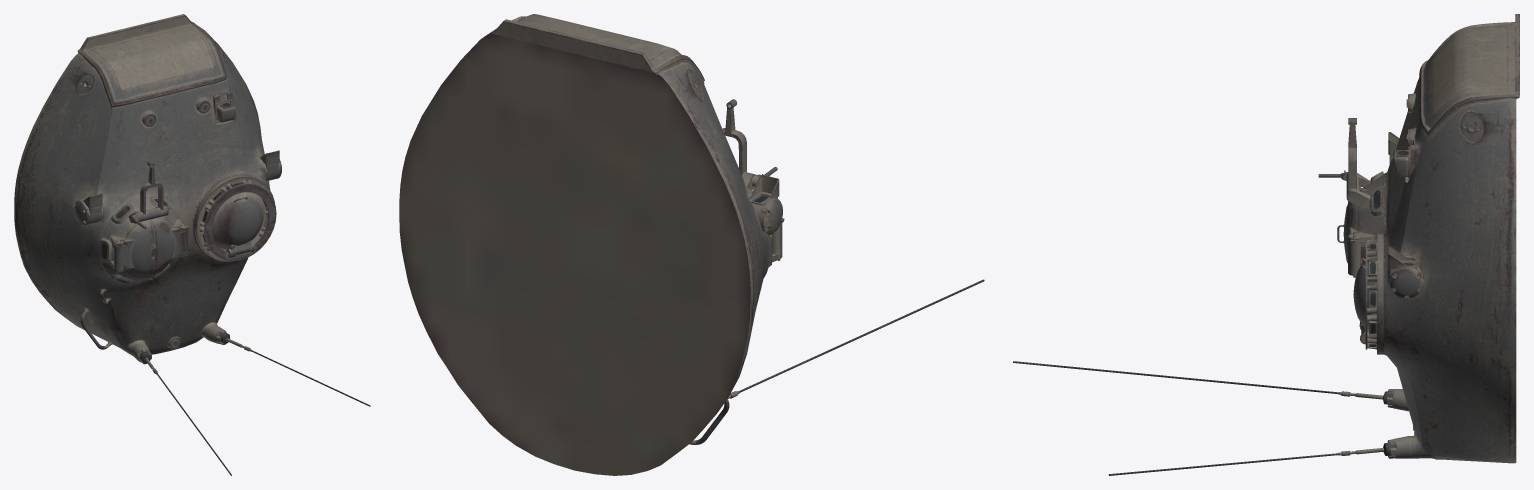
Rendered from Turret_01.glb.
The picture shows the model from 3 angles, left to right: view 1: azimuth 30°, elevation 25°; view 2: azimuth 150°, elevation 25°; view 3: azimuth 270°, elevation 25°; orthographic projection. The views are drawn at different scales.
Parts seen in each view (by area): view 1: set_0_group_0; view 2: set_0_group_0; view 3: set_0_group_0.
Boxes of the visible parts, x1,y1,x2,y2 form: set_0_group_0: [14, 14, 370, 475]; set_0_group_0: [399, 14, 984, 475]; set_0_group_0: [1013, 14, 1519, 475].
Bounding box in the file's own units: 2.3 × 2.71 × 3.11.
1 material, 1 textured.
